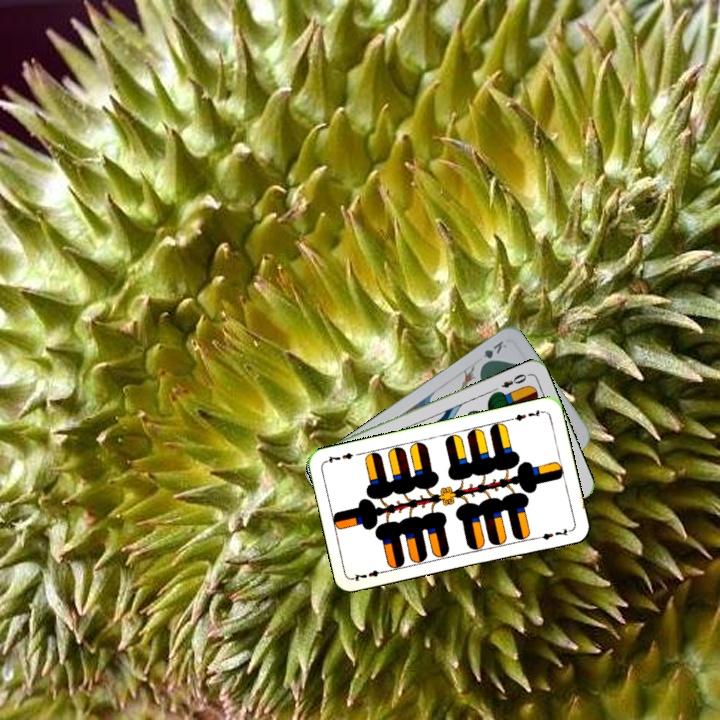E7: (349, 566, 390, 584), (506, 406, 546, 423)
EO: (497, 369, 532, 390)
GK: (477, 336, 509, 369)
